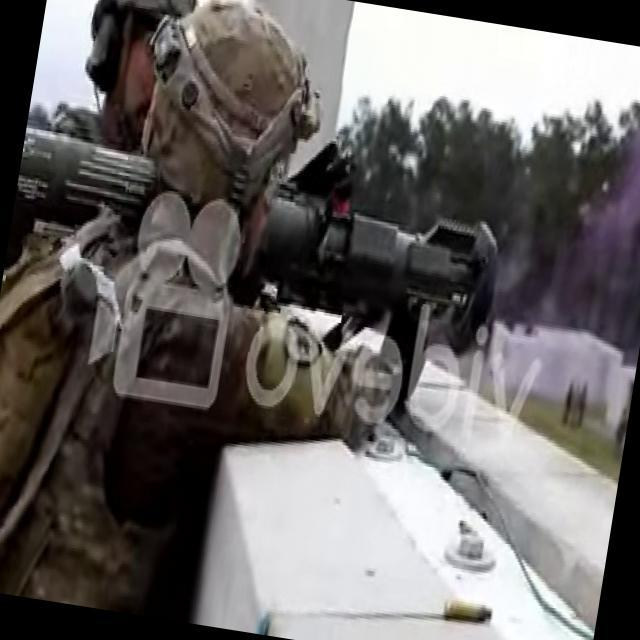rocket: (1, 127, 508, 360)
